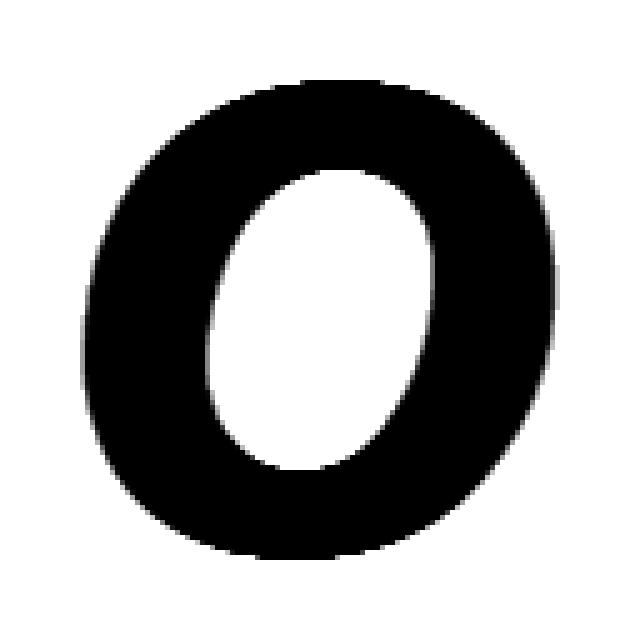O: (80, 80, 560, 565)
